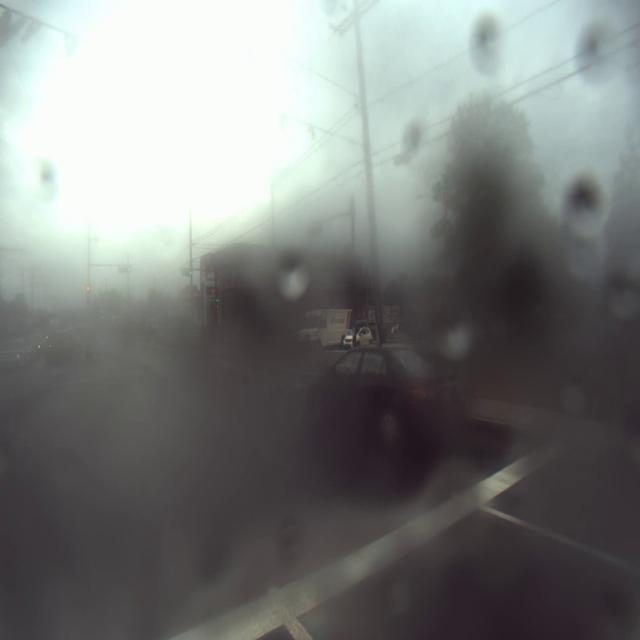car: (302, 328, 462, 459)
